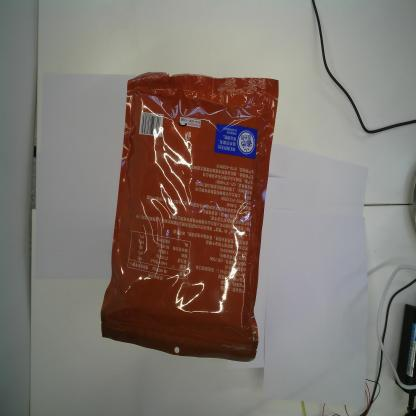Dried Food: (100, 66, 280, 362)
